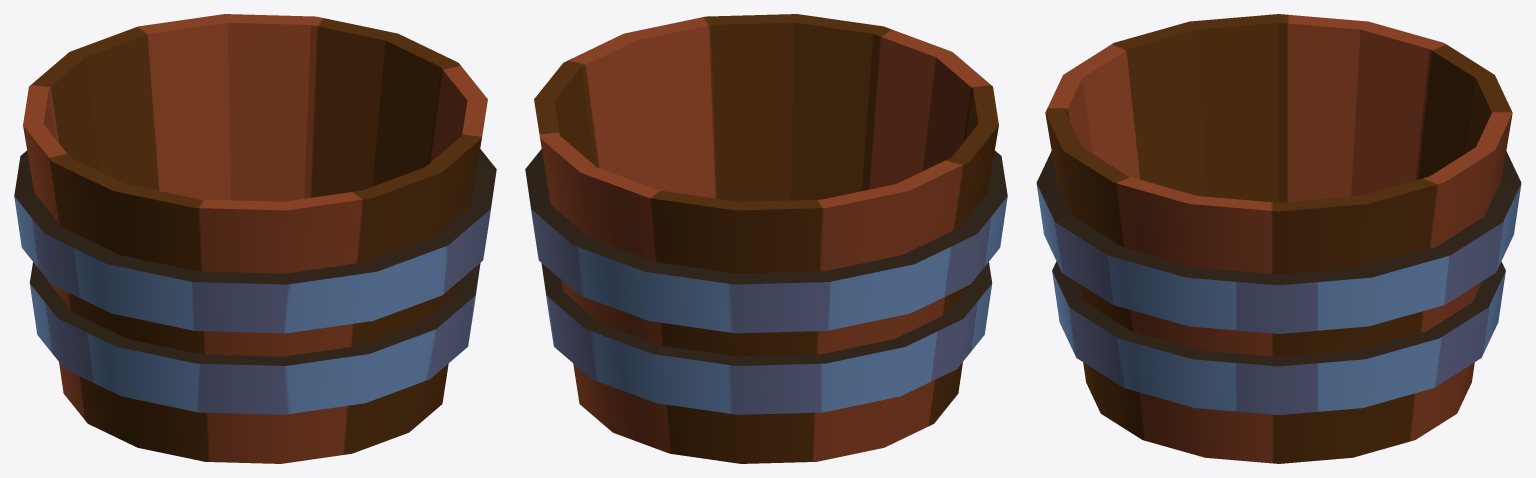
The model's file is PRMC_Cubo.FBX.
3 views of the same model, side by side, from view 1: azimuth 30°, elevation 25°; view 2: azimuth 150°, elevation 25°; view 3: azimuth 270°, elevation 25° (orthographic).
Visible parts, largest first — view 1: PRMC_Cubo; view 2: PRMC_Cubo; view 3: PRMC_Cubo.
Boxes of the visible parts, bbox=[...] form: PRMC_Cubo: bbox=[14, 14, 496, 463]; PRMC_Cubo: bbox=[525, 14, 1007, 463]; PRMC_Cubo: bbox=[1036, 14, 1521, 463].
Size of the model in its own units: 0.5748 by 0.3526 by 0.5748.
